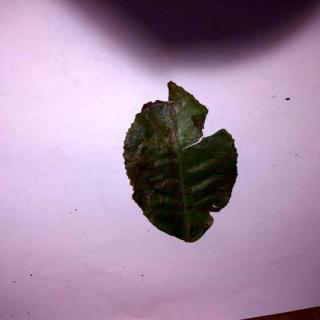Bird Eye Spot: (124, 82, 241, 246)
